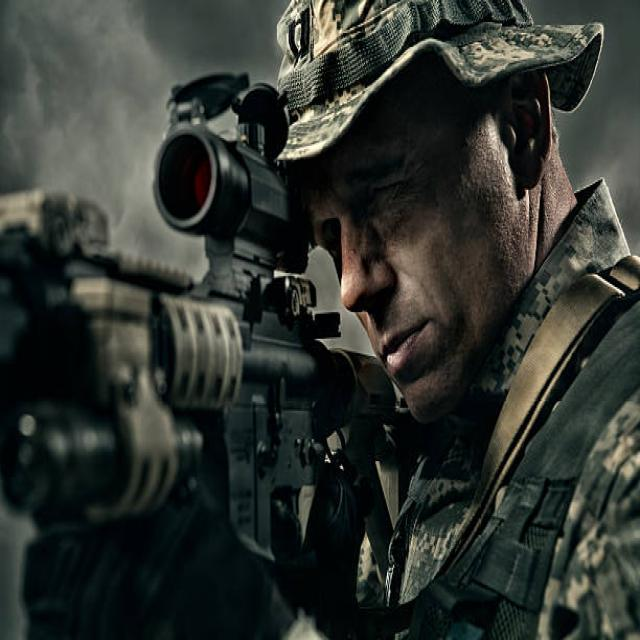Rifle: (0, 74, 402, 574)
